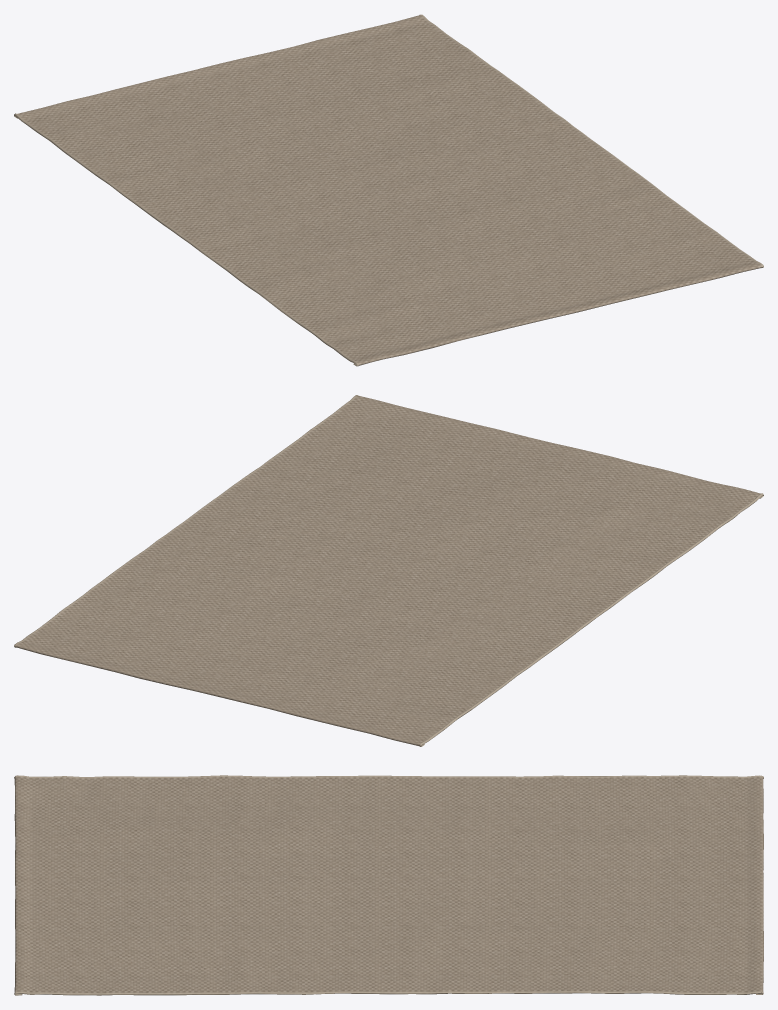
The model's file is 16 - MORUM Rug flatwoven, inoutdoor - beige 160x230 cm.glb.
The picture shows the model from 3 angles, top to bottom: view 1: azimuth 30°, elevation 25°; view 2: azimuth 150°, elevation 25°; view 3: azimuth 270°, elevation 25°; orthographic projection. The views are drawn at different scales.
Visible parts, largest first — view 1: Mesh_0; view 2: Mesh_0; view 3: Mesh_0.
Boxes of the visible parts, <box> form: Mesh_0: <box>14,14,763,366</box>; Mesh_0: <box>14,395,763,746</box>; Mesh_0: <box>14,775,763,995</box>.
Size of the model in its own units: 1.59 by 0.0161 by 2.32.
1 material, 1 textured.
